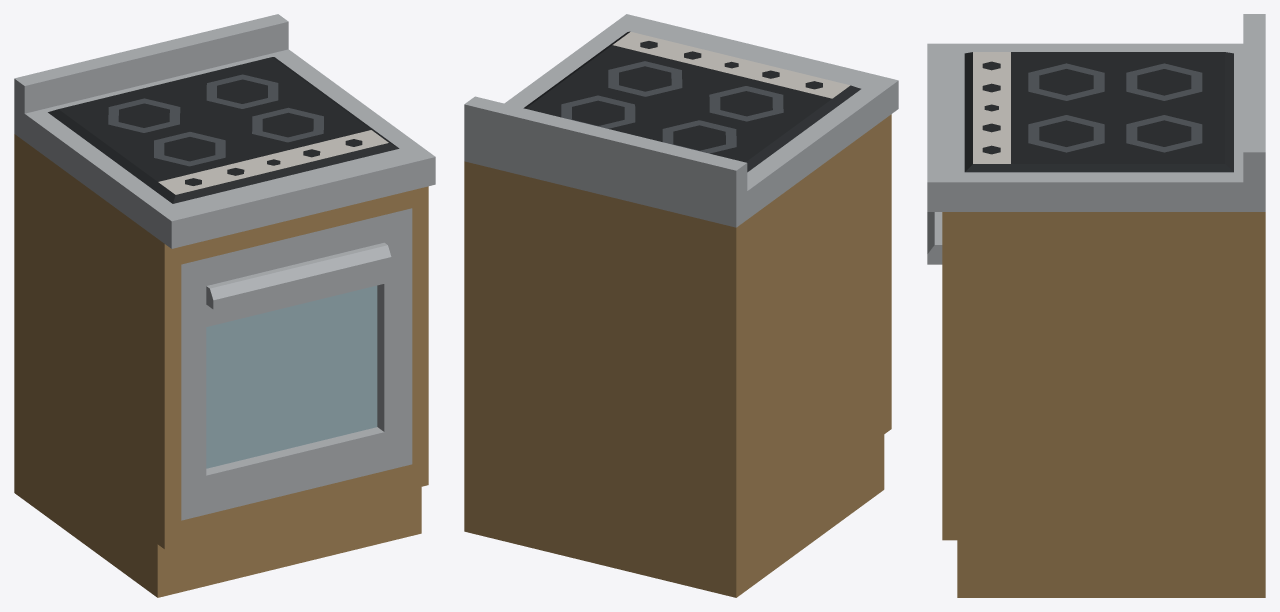
Rendered from cooker_electric.glb.
3 renders of one model, left to right at view 1: azimuth 30°, elevation 25°; view 2: azimuth 150°, elevation 25°; view 3: azimuth 270°, elevation 25°, orthographic. The views are drawn at different scales.
Parts seen in each view (by area): view 1: cooker_electric; view 2: cooker_electric; view 3: cooker_electric.
Boxes of the visible parts, x1,y1,x2,y2 form: cooker_electric: (14, 14, 435, 597); cooker_electric: (464, 14, 898, 597); cooker_electric: (927, 14, 1265, 597).
Bounding box in the file's own units: 0.6 × 0.9 × 0.62.
